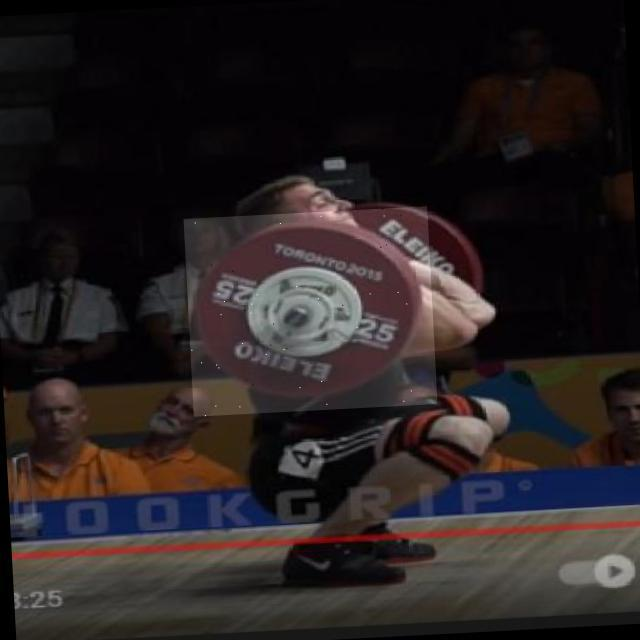barbell: (185, 207, 441, 418)
